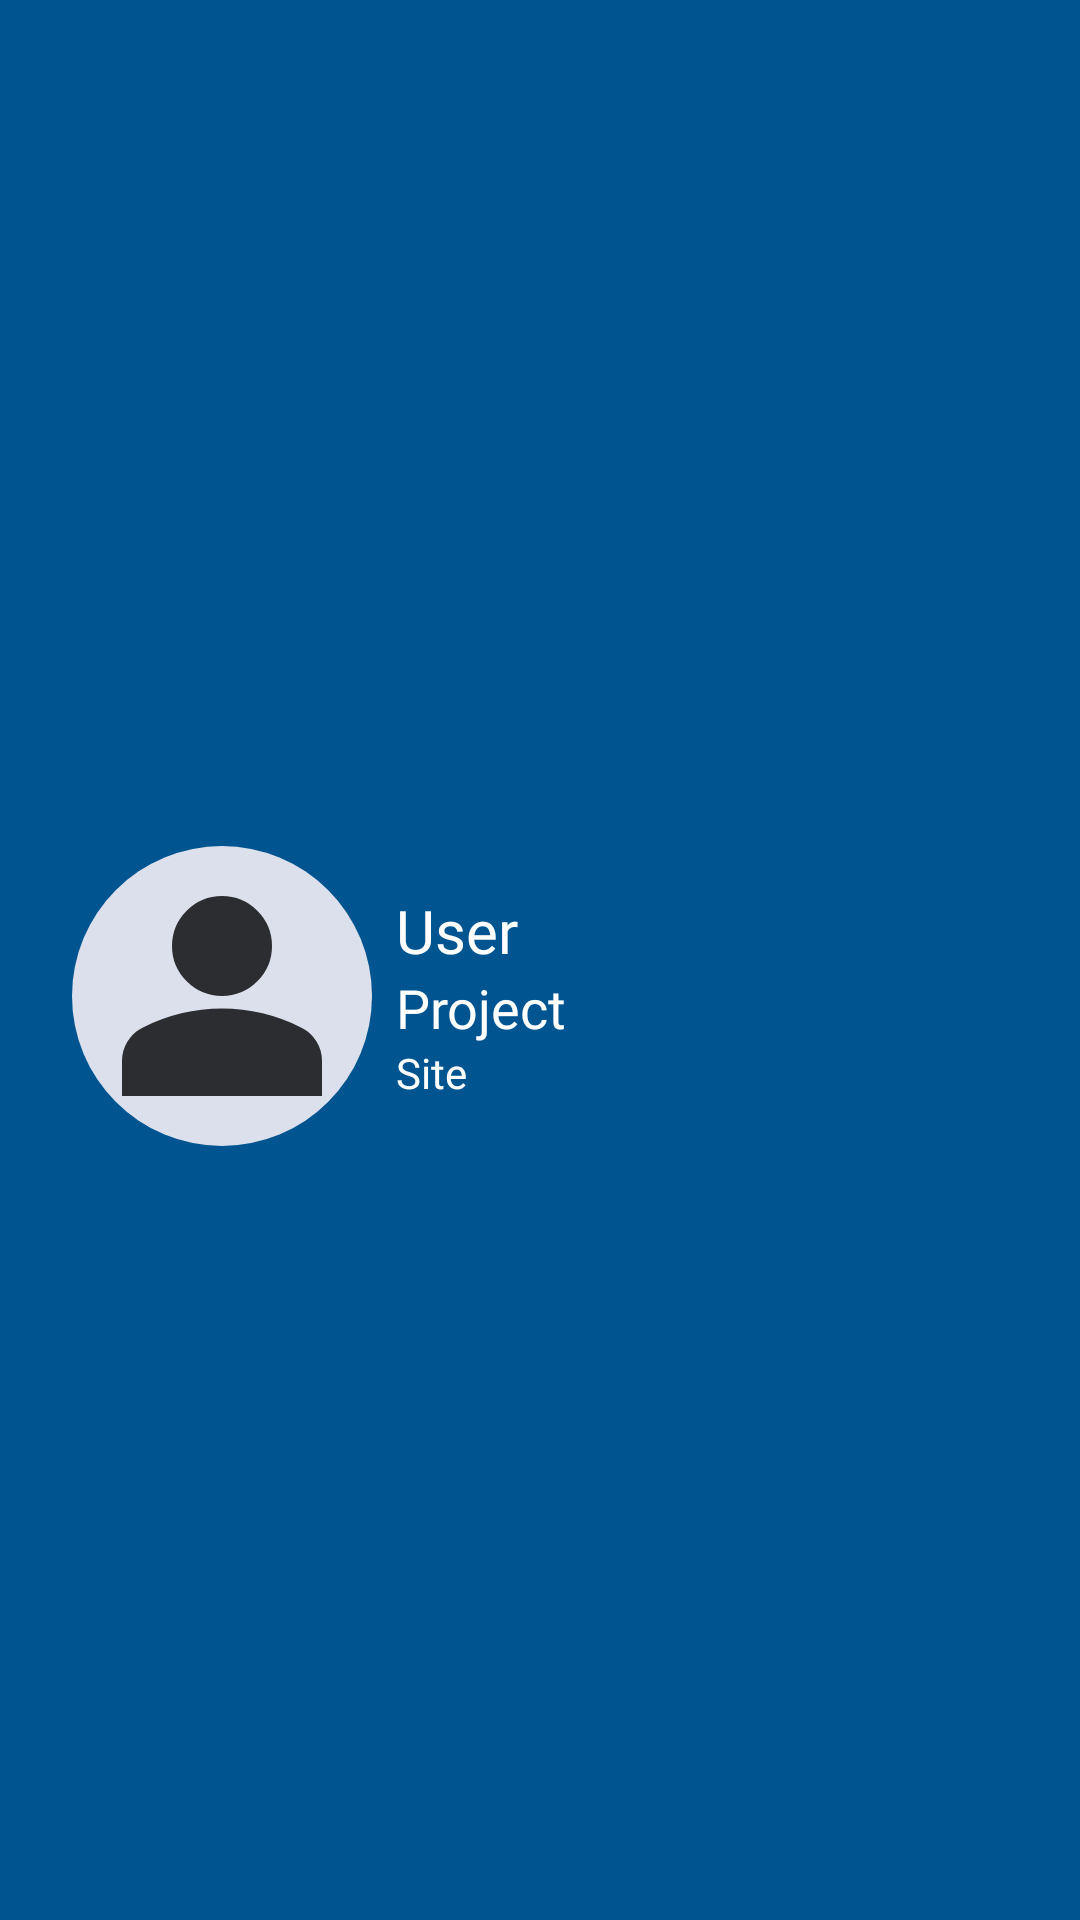

Named icons in this screenshot (1080x1920) and their bounding boxes, (x1, y1, x2, y2):
person: (72, 846, 372, 1146)
